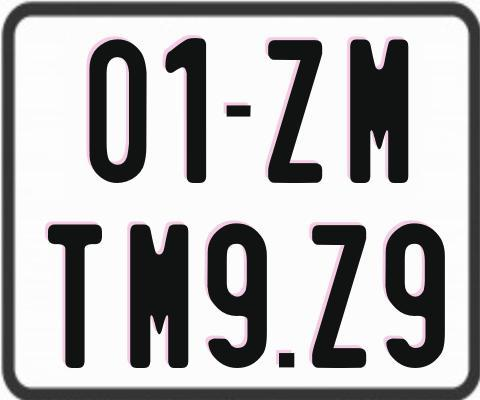0: (86, 37, 144, 183)
1: (164, 37, 209, 185)
9: (205, 221, 268, 369), (383, 220, 445, 368)
M: (127, 224, 191, 374), (348, 39, 412, 183)
T: (46, 221, 103, 371)
Z: (309, 223, 367, 371), (267, 39, 326, 182)
